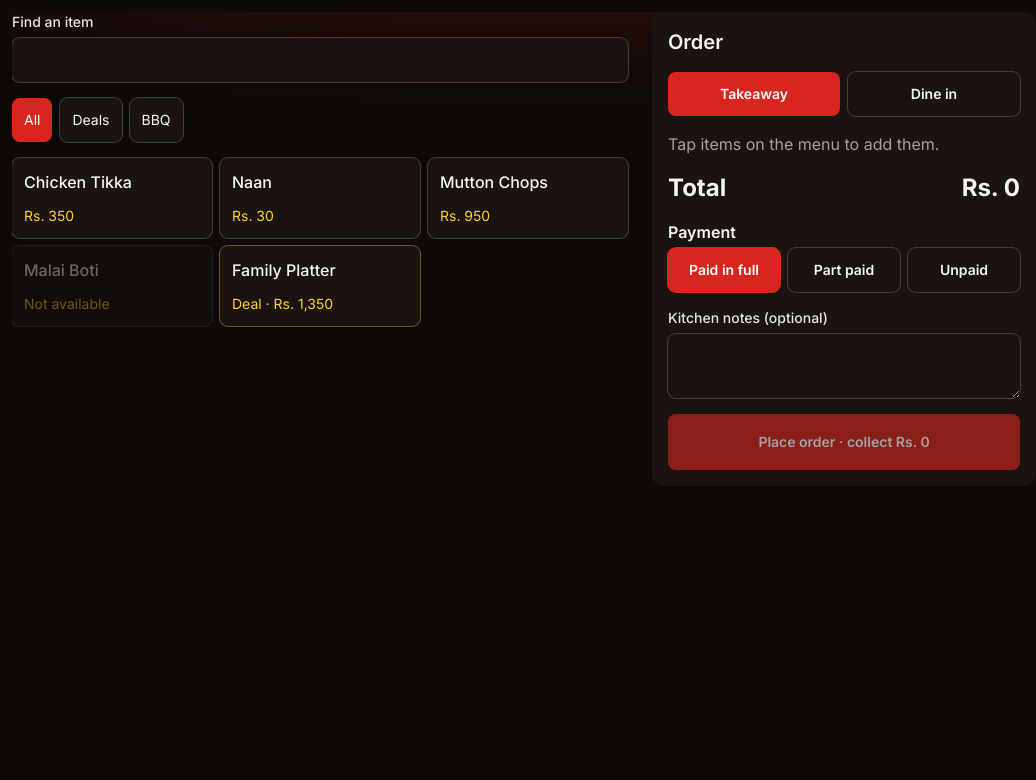
the counter screen › options open a picker before the item goes on the ticket
This screenshot has width=1036, height=780.
Step 1. Click the button "Chicken Tikka Rs. 350" → x=112, y=198, box [12,158,212,238]
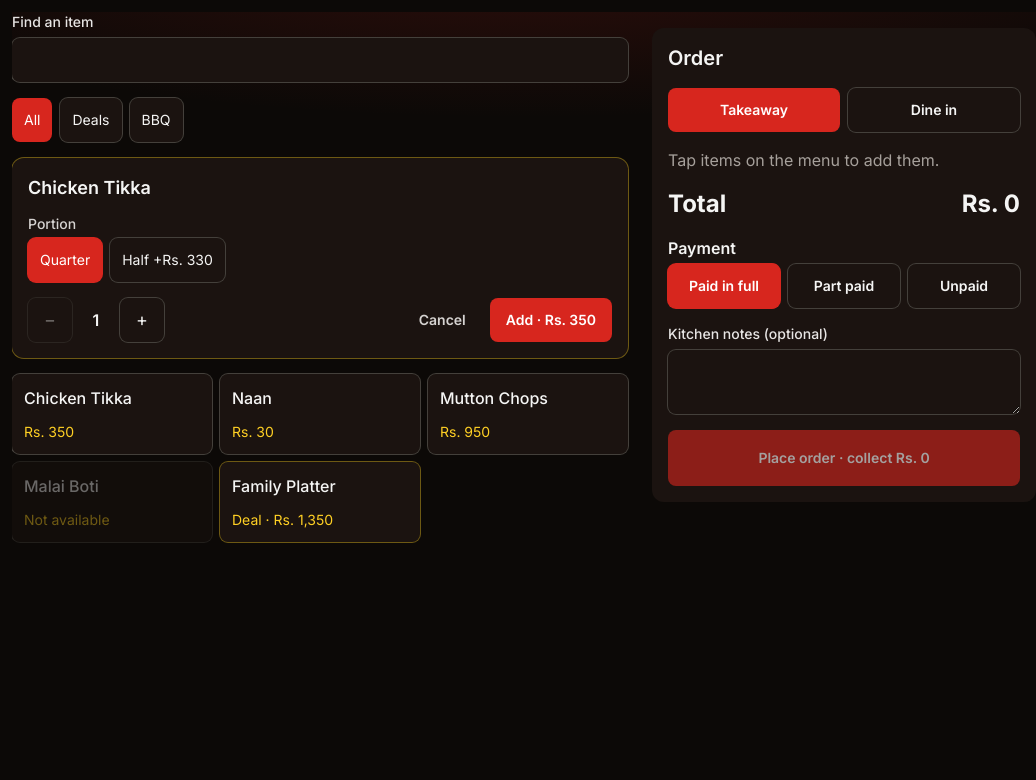
Step 2. Click the radio button labelled "Half +Rs. 330" → x=167, y=260, box [110,238,225,282]
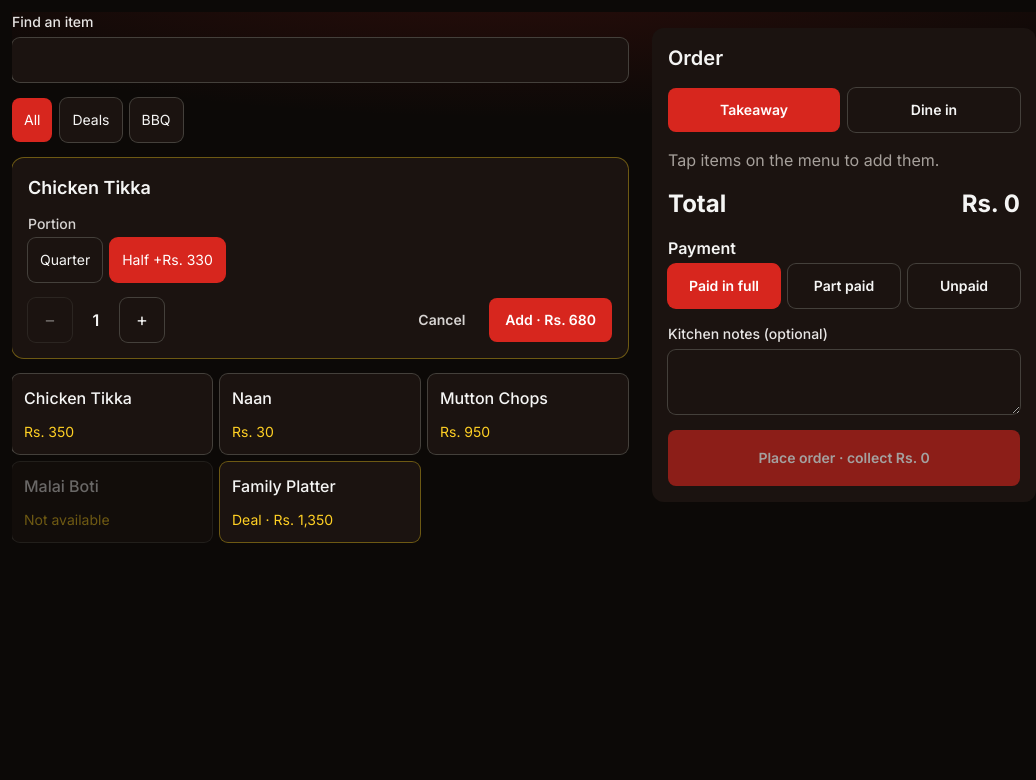
Step 3. Click the button "Add · Rs. 680" → x=551, y=320, box [489,298,612,342]
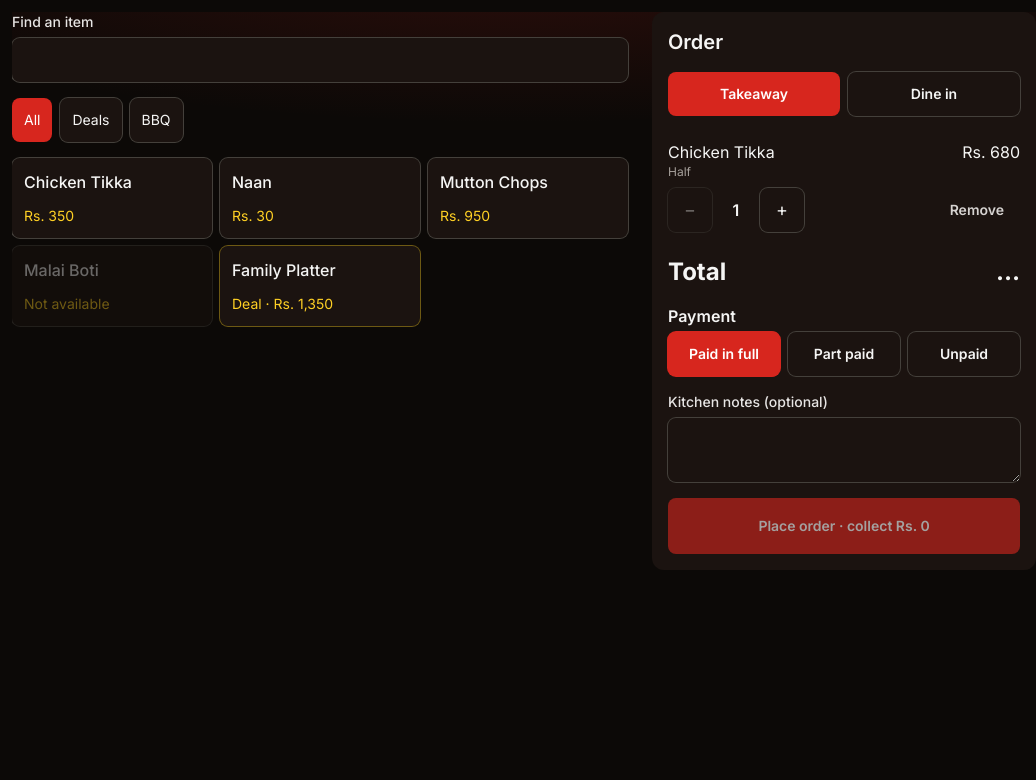
Check: the button "Malai Boti Not available" is disabled, box [12,246,212,326]
Check: the text "Half" is shown, box [668,164,691,179]
Note: Deals are on the menu too.
Step 4. Click the button "Deals" → x=91, y=120, box [60,98,122,142]
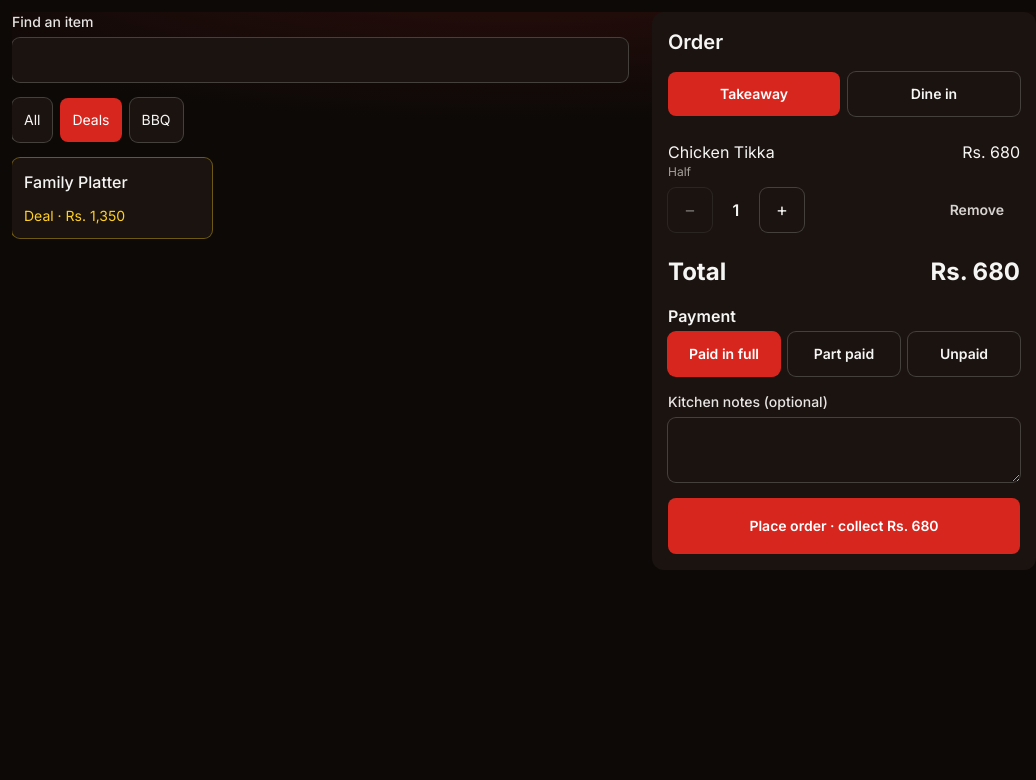
Check: the button "Family Platter Deal · Rs. 1,350" is shown, box [12,158,212,238]
Check: the button "Naan" is gone
